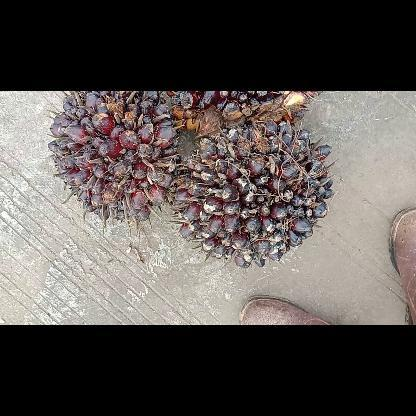TBS mentah: (166, 119, 336, 270), (44, 90, 184, 226)
